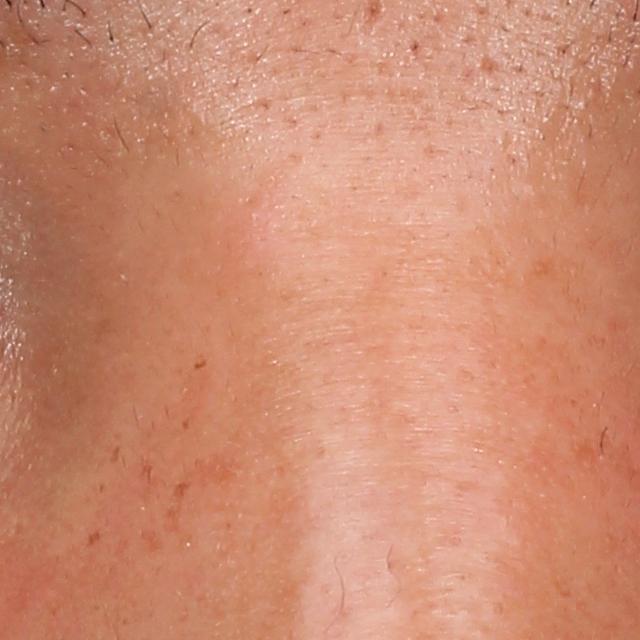melasma: (138, 526, 167, 558), (82, 525, 104, 550), (107, 443, 120, 466), (188, 357, 209, 371), (179, 415, 191, 432)
